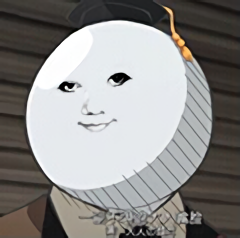dragon: (56, 72, 133, 132)
